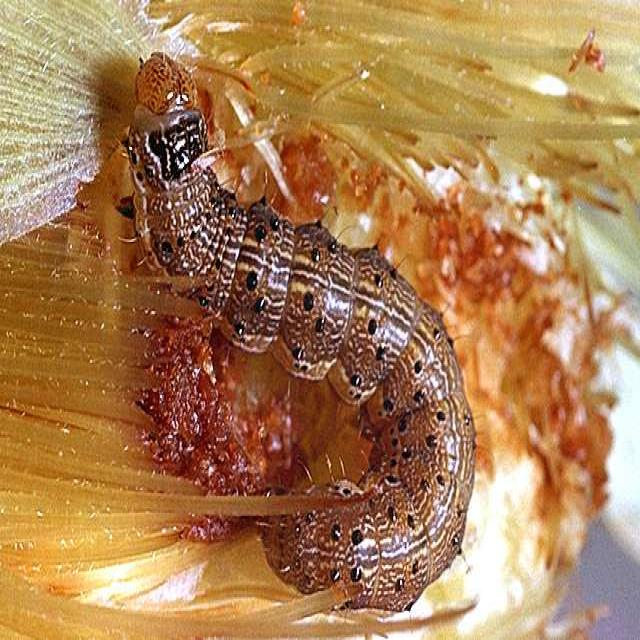Corn-earworm: (125, 38, 480, 618)
